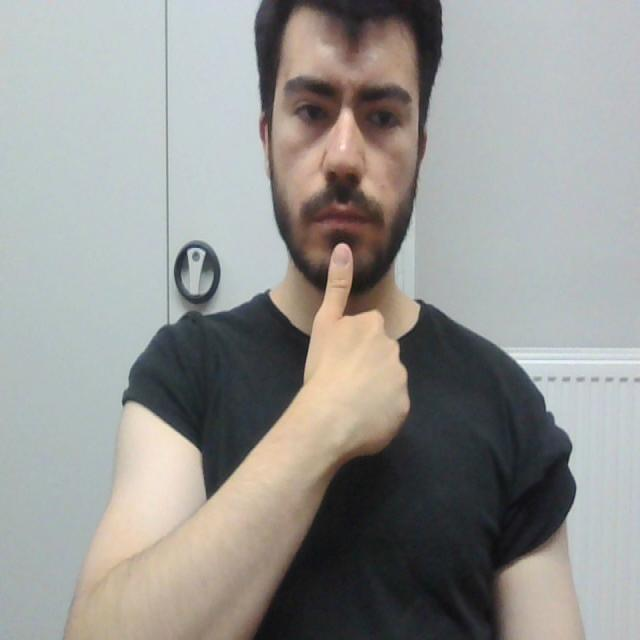Baba: (305, 194, 385, 312)
